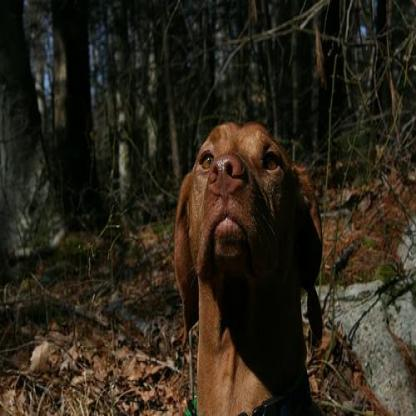vizsla: (169, 116, 322, 412)
